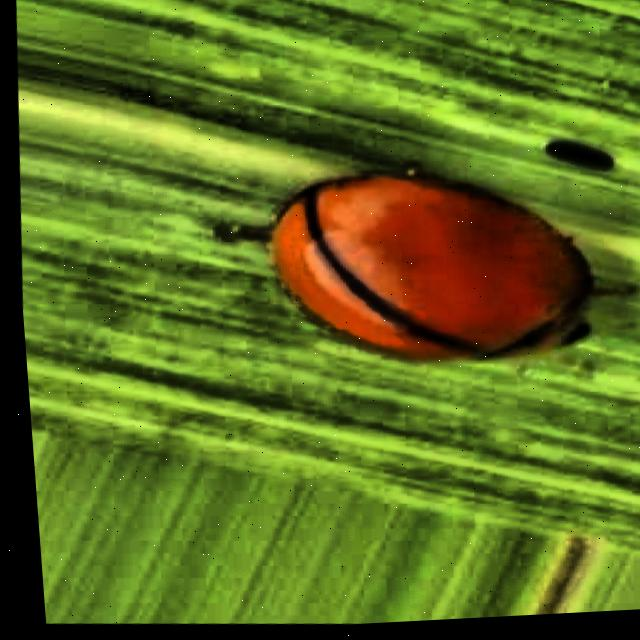Ladybug: (147, 49, 640, 448)
